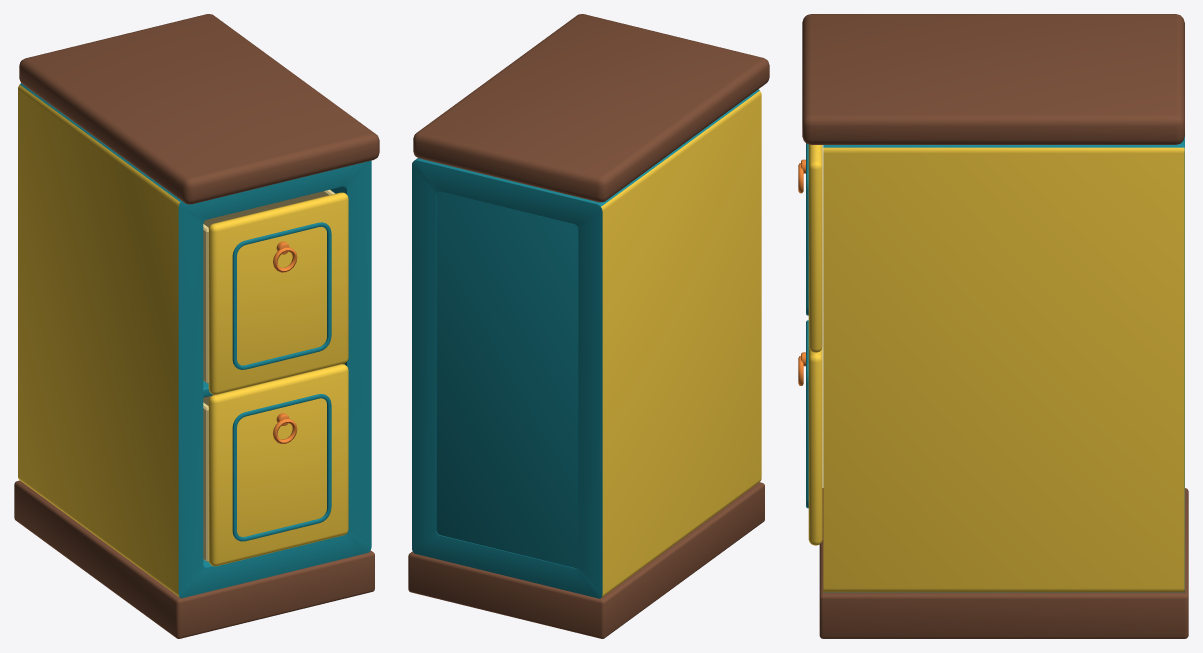
The model's file is gaveteiro_cozinha_2gavetas_colonial.glb.
3 renders of one model, left to right at view 1: azimuth 30°, elevation 25°; view 2: azimuth 150°, elevation 25°; view 3: azimuth 270°, elevation 25°, orthographic. The views are drawn at different scales.
Visible parts, largest first — view 1: gaveteiro_cozinha_2gavetas_colonial, gaveta_1, gaveta_2; view 2: gaveteiro_cozinha_2gavetas_colonial; view 3: gaveteiro_cozinha_2gavetas_colonial, gaveta_1, gaveta_2.
Part boxes in pixels (bbox=[...]): gaveteiro_cozinha_2gavetas_colonial: bbox=[14, 14, 379, 638]; gaveta_1: bbox=[203, 189, 348, 394]; gaveta_2: bbox=[203, 364, 348, 566]; gaveteiro_cozinha_2gavetas_colonial: bbox=[408, 14, 769, 638]; gaveteiro_cozinha_2gavetas_colonial: bbox=[802, 14, 1188, 638]; gaveta_1: bbox=[798, 143, 822, 352]; gaveta_2: bbox=[798, 320, 822, 545].
Size of the model in its own units: 0.404 by 0.9 by 0.6112.
1 material, 1 textured.
